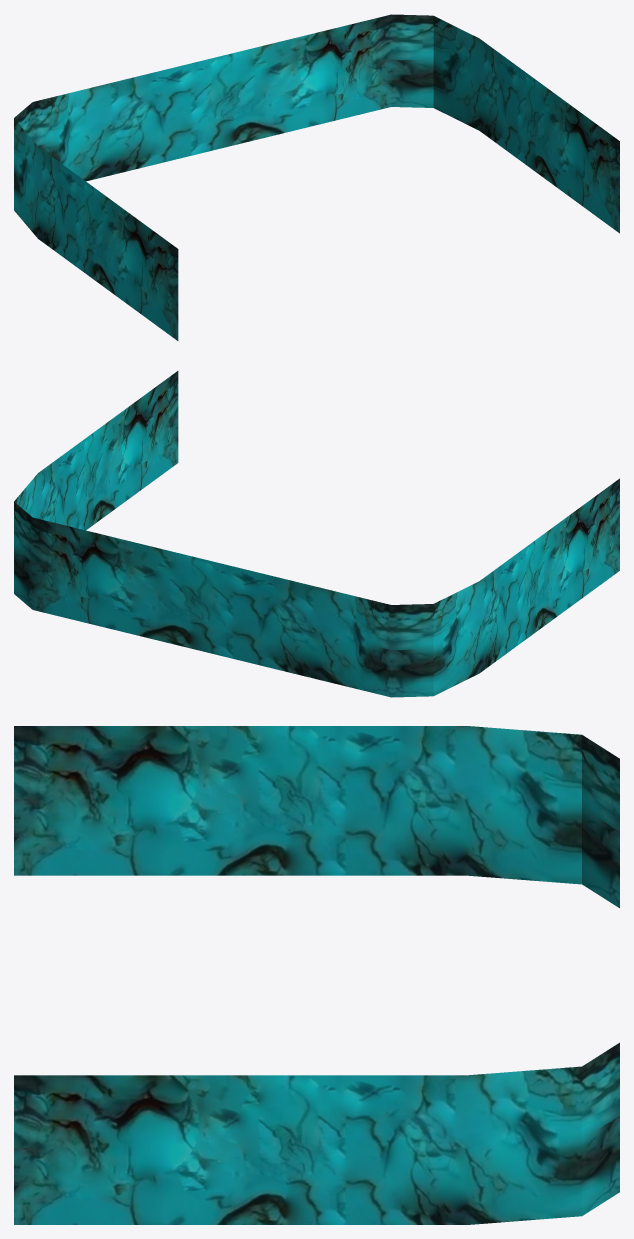
Rendered from StageWalls_MainGame_Barrier_Finished.fbx.
The picture shows the model from 3 angles, top to bottom: view 1: azimuth 30°, elevation 25°; view 2: azimuth 150°, elevation 25°; view 3: azimuth 270°, elevation 25°; orthographic projection. The views are drawn at different scales.
Parts seen in each view (by area): view 1: Plane_3; view 2: Plane_3; view 3: Plane_3.
Part boxes in pixels (x1,y1,x2,y2): Plane_3: (14, 14, 619, 340); Plane_3: (14, 371, 619, 697); Plane_3: (14, 726, 619, 1224).
Size of the model in its own units: 750 by 150 by 550.
Materials: 1 (1 with a texture image).
